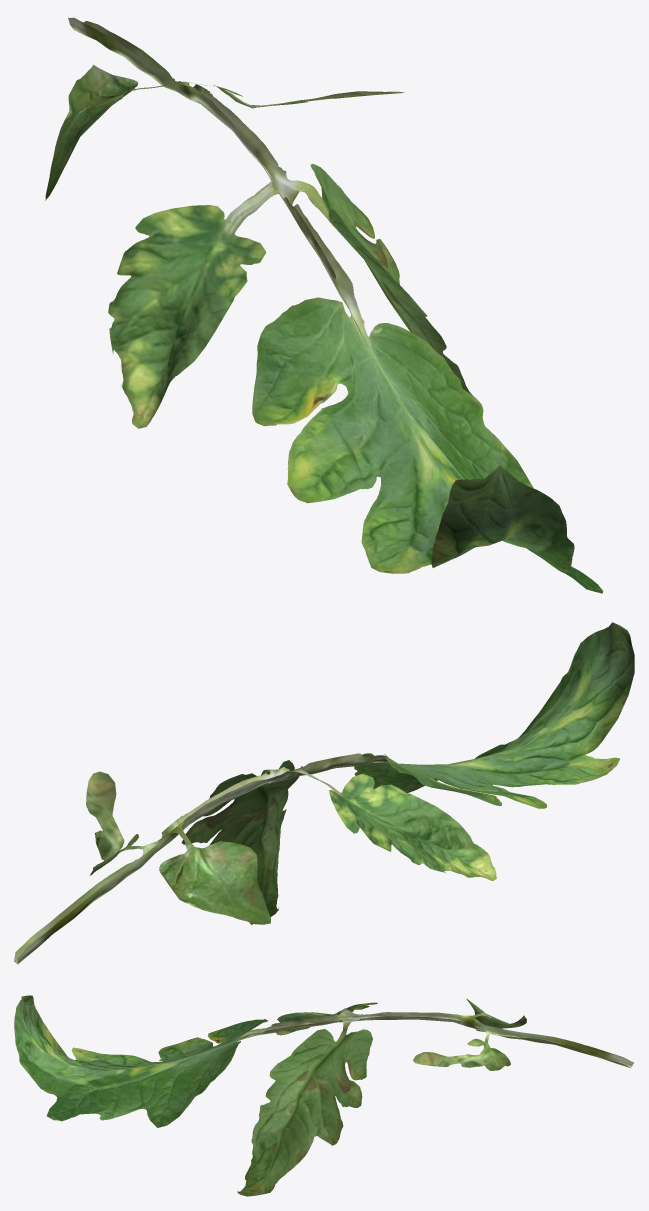
The model's file is Branch_05.fbx.
3 views of the same model, one above another, from view 1: azimuth 30°, elevation 25°; view 2: azimuth 150°, elevation 25°; view 3: azimuth 270°, elevation 25° (orthographic). The views are drawn at different scales.
Parts seen in each view (by area): view 1: Tomat3_Stvol.003; view 2: Tomat3_Stvol.003; view 3: Tomat3_Stvol.003.
Boxes of the visible parts, x1,y1,x2,y2 form: Tomat3_Stvol.003: (45, 17, 603, 593); Tomat3_Stvol.003: (14, 622, 634, 964); Tomat3_Stvol.003: (14, 995, 633, 1196).
Bounding box in the file's own units: 844 × 636 × 2257.
